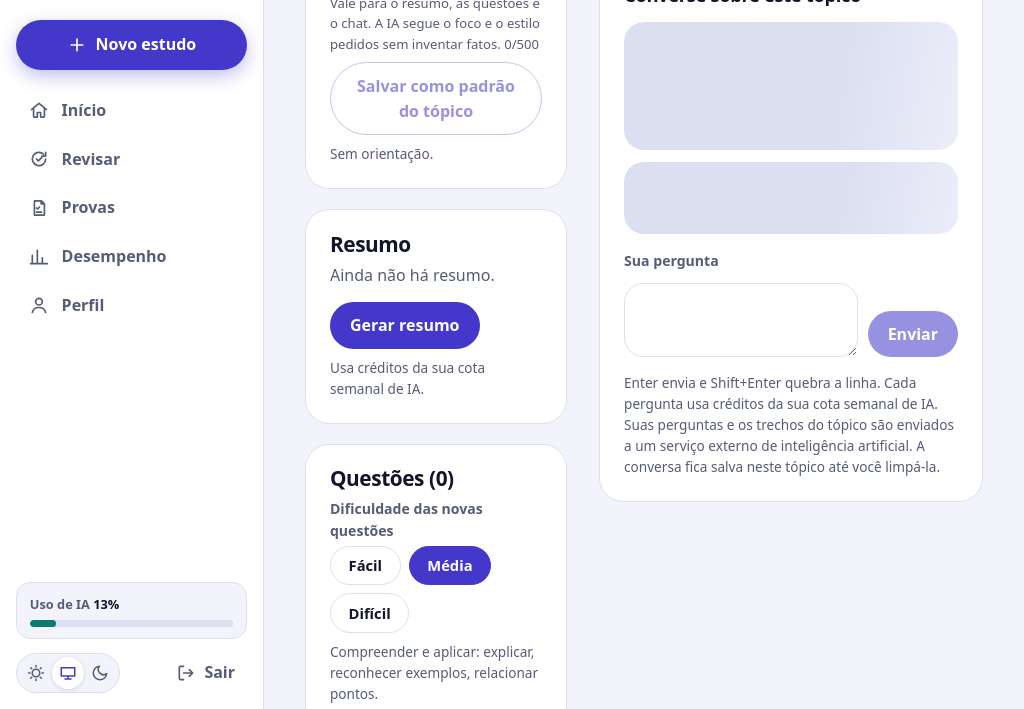
limite de IA vem do servidor como mensagem clara e não abre andamento
(page scrolled)
Click the button "Gerar resumo": {"x": 405, "y": 326} [330,302,480,349]
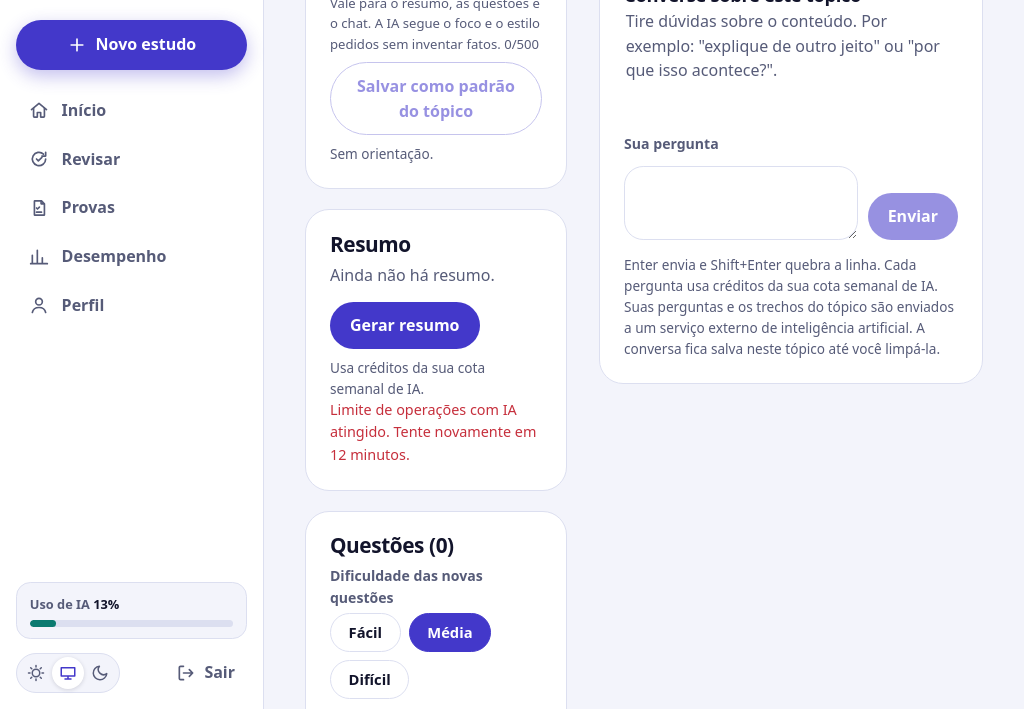
Expected: the message shows "12 minutos", [330,400,536,464]
